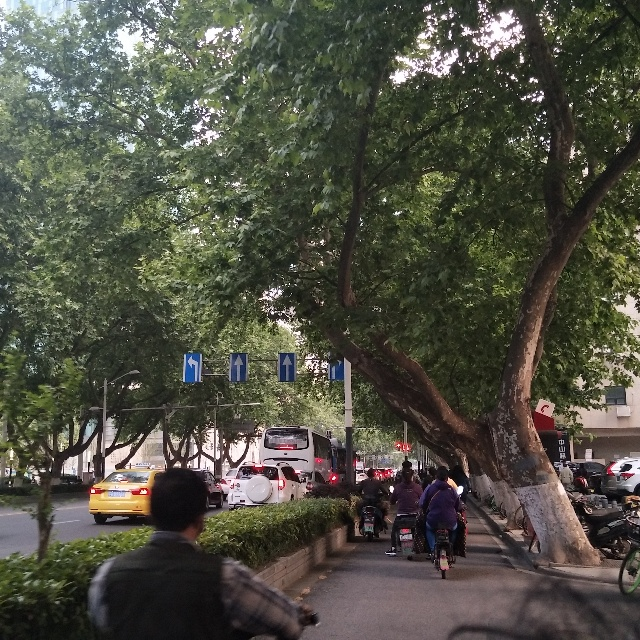left: (181, 351, 201, 383)
straight: (229, 349, 247, 383), (278, 349, 294, 379)
